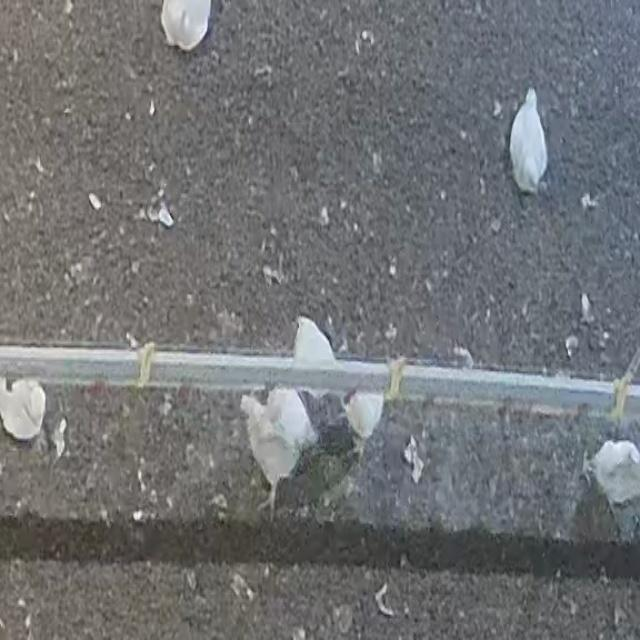chicken: (237, 394, 299, 499), (508, 80, 551, 194), (290, 315, 341, 390), (2, 374, 52, 448), (590, 441, 640, 503), (344, 382, 391, 443)
